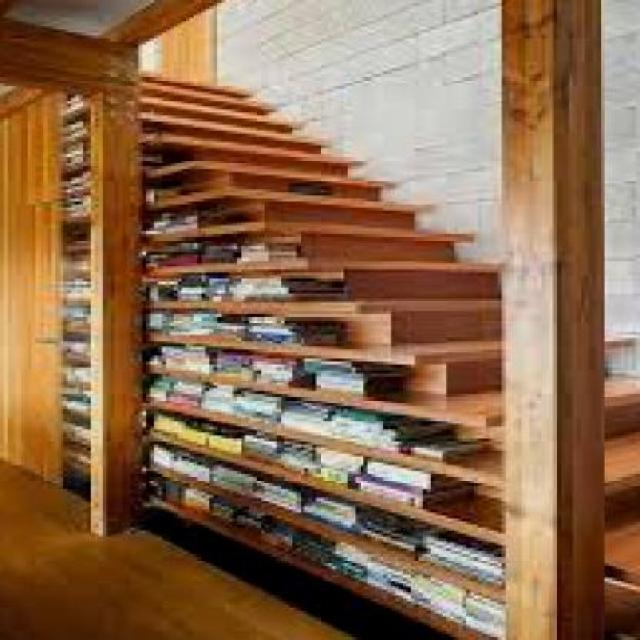stair: (79, 20, 636, 638)
